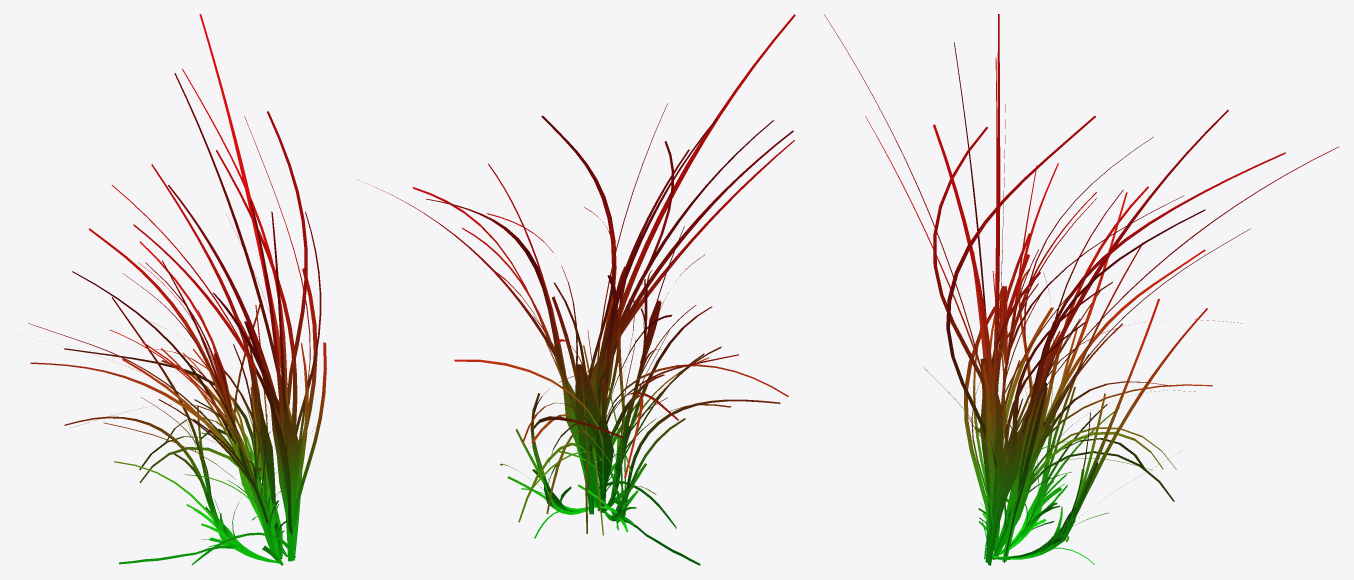
Rendered from Sea Wheatgrass_LOD0_Var1_ui2oagjia.fbx.
3 views of the same model, side by side, from view 1: azimuth 30°, elevation 25°; view 2: azimuth 150°, elevation 25°; view 3: azimuth 270°, elevation 25° (orthographic). The views are drawn at different scales.
Parts seen in each view (by area): view 1: _jm36_Var1_LOD0; view 2: _jm36_Var1_LOD0; view 3: _jm36_Var1_LOD0.
Boxes of the visible parts, <box> form: _jm36_Var1_LOD0: <box>28,14,326,565</box>; _jm36_Var1_LOD0: <box>357,14,795,565</box>; _jm36_Var1_LOD0: <box>824,14,1338,565</box>.
Size of the model in its own units: 59.32 by 90.65 by 86.44.
